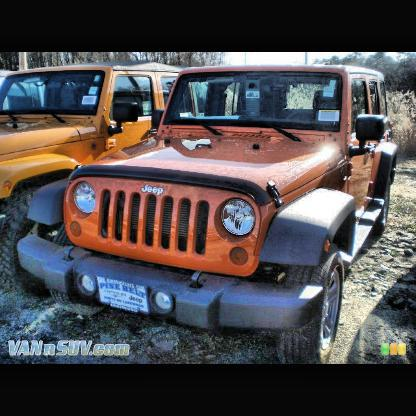Jeep Wrangler SUV 2012: (26, 65, 394, 364)
